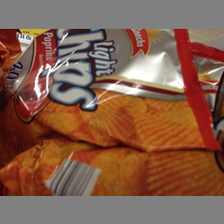chips: (5, 29, 221, 149)
